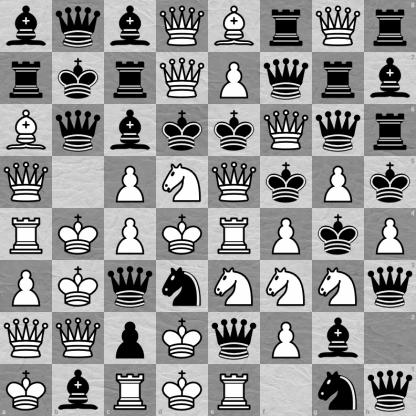B: (1, 105, 52, 156), (209, 1, 260, 52)
K: (156, 364, 209, 416), (0, 364, 52, 416), (53, 209, 104, 260), (53, 261, 104, 312), (157, 209, 208, 260), (157, 313, 208, 364)
N: (157, 157, 208, 208), (209, 261, 260, 312), (261, 261, 312, 312), (313, 261, 364, 312)
P: (364, 209, 416, 260), (1, 261, 52, 312), (105, 157, 156, 208), (105, 209, 156, 260), (209, 53, 260, 104), (261, 209, 312, 260), (261, 313, 312, 364), (313, 157, 364, 208)
Q: (1, 157, 52, 208), (1, 313, 52, 364), (53, 313, 104, 364), (157, 1, 208, 52), (157, 53, 208, 104), (209, 157, 260, 208), (261, 105, 312, 156), (313, 1, 364, 52)
R: (104, 364, 156, 416), (209, 364, 260, 416), (1, 209, 52, 260), (209, 209, 260, 260)
b: (52, 364, 104, 416), (364, 52, 416, 104), (1, 1, 52, 52), (105, 1, 156, 52), (105, 105, 156, 156), (313, 313, 364, 364)
board: (0, 0, 415, 415)
k: (364, 156, 416, 209), (53, 53, 104, 104), (157, 105, 208, 156), (209, 105, 260, 156), (261, 157, 312, 208), (313, 209, 364, 260)
n: (312, 364, 364, 416), (157, 261, 208, 312)
p: (105, 313, 156, 364)
q: (364, 260, 416, 312), (364, 364, 416, 416), (53, 1, 104, 52), (53, 105, 104, 156), (105, 261, 156, 312), (209, 313, 260, 364), (261, 53, 312, 104), (313, 105, 364, 156)
r: (364, 0, 416, 52), (364, 104, 416, 156), (1, 53, 52, 104), (105, 53, 156, 104), (261, 1, 312, 52), (313, 53, 364, 104)
